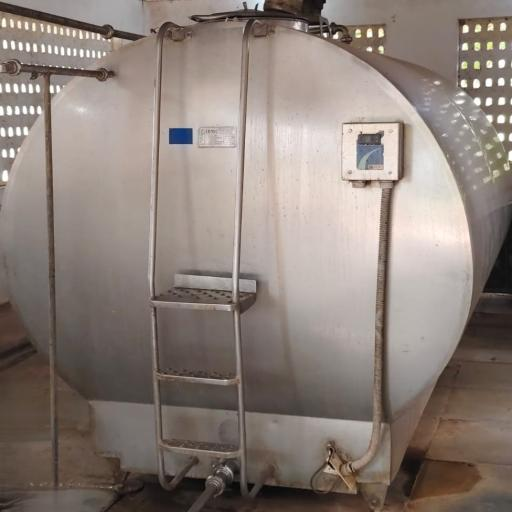silo: (0, 7, 511, 480)
